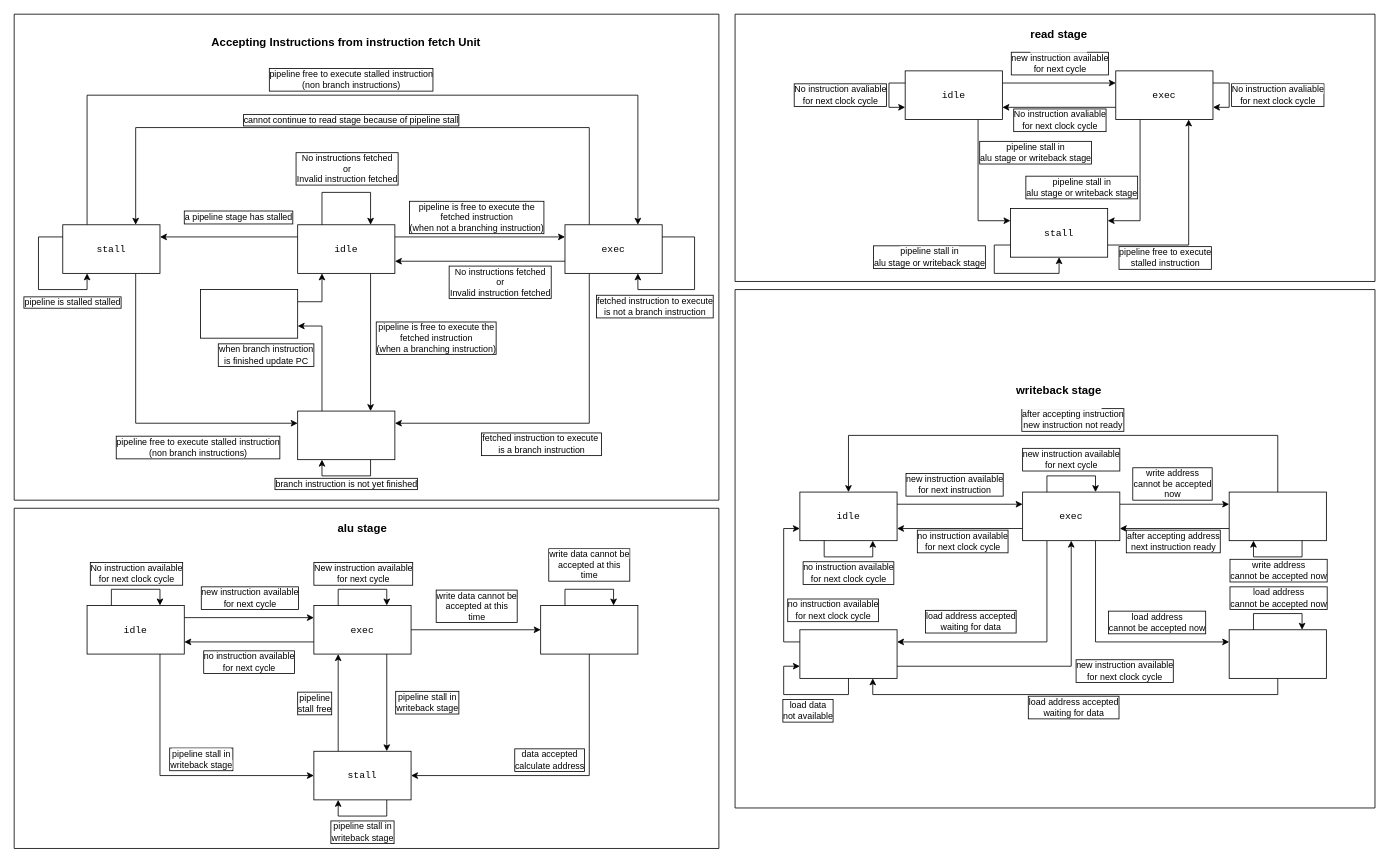
The diagram is 1390 pixels wide and 863 high, and some of its shapes have lost their labels. The shapes that lost their labels are listed below. From the top down, each one's centre as x and y in pixels, then its label:
the point at 249,313: branch_update
the point at 346,435: execBranch
the point at 1277,516: write_addr_stall
the point at 589,629: write_data_stall
the point at 848,653: load_data_stall
the point at 1277,653: load_addr_stall
